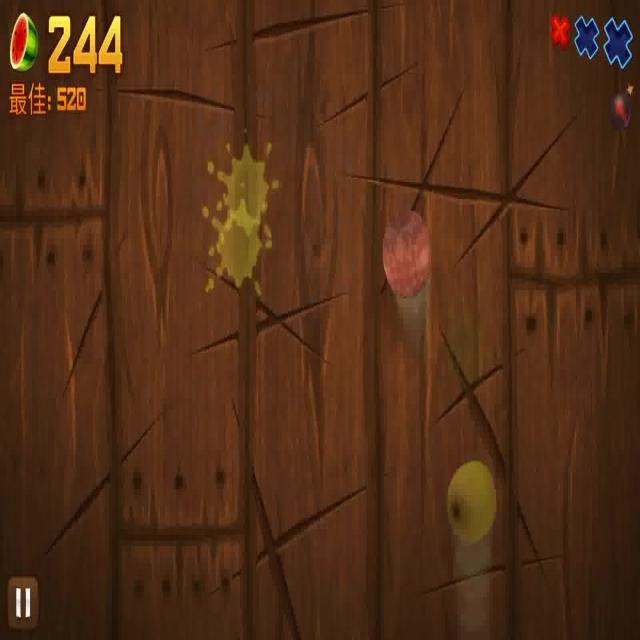fruit: (380, 204, 433, 304), (446, 454, 498, 550)
